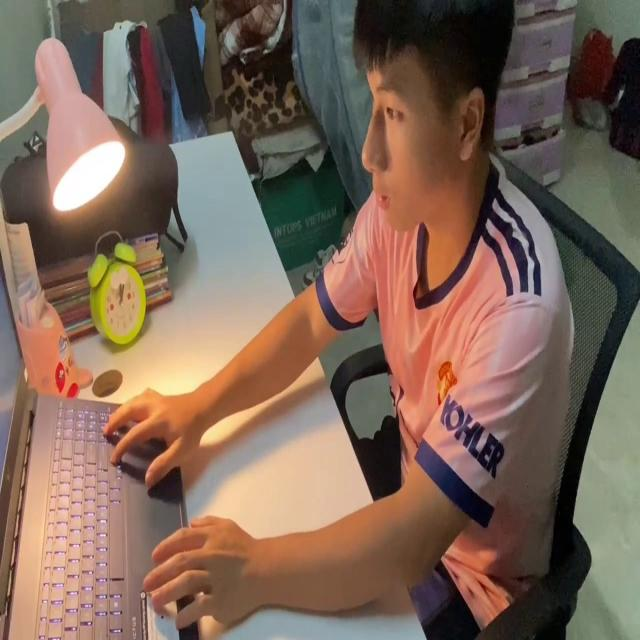laptop: (0, 240, 202, 640)
student: (101, 0, 574, 640)
